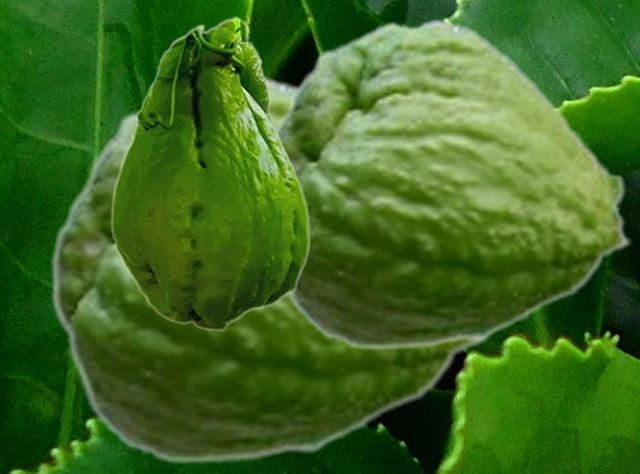sayote: (50, 74, 490, 465), (276, 17, 633, 351), (110, 16, 310, 331)
